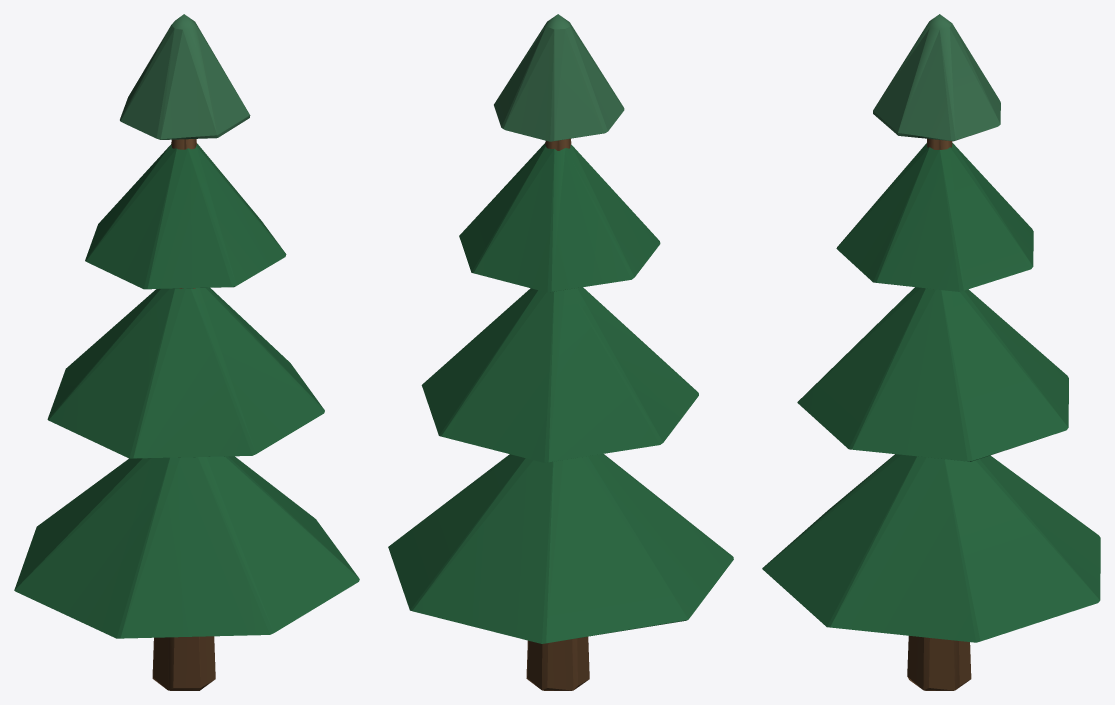
The model's file is prop_pine_lod1.glb.
3 views of the same model, side by side, from view 1: azimuth 30°, elevation 25°; view 2: azimuth 150°, elevation 25°; view 3: azimuth 270°, elevation 25° (orthographic).
Visible parts, largest first — view 1: prop_pine_lod1; view 2: prop_pine_lod1; view 3: prop_pine_lod1.
Part boxes in pixels (x1,y1,x2,y2): prop_pine_lod1: (14,14,359,690); prop_pine_lod1: (388,14,733,690); prop_pine_lod1: (762,14,1100,690).
Bounding box in the file's own units: 2.56 × 5.42 × 2.49.
